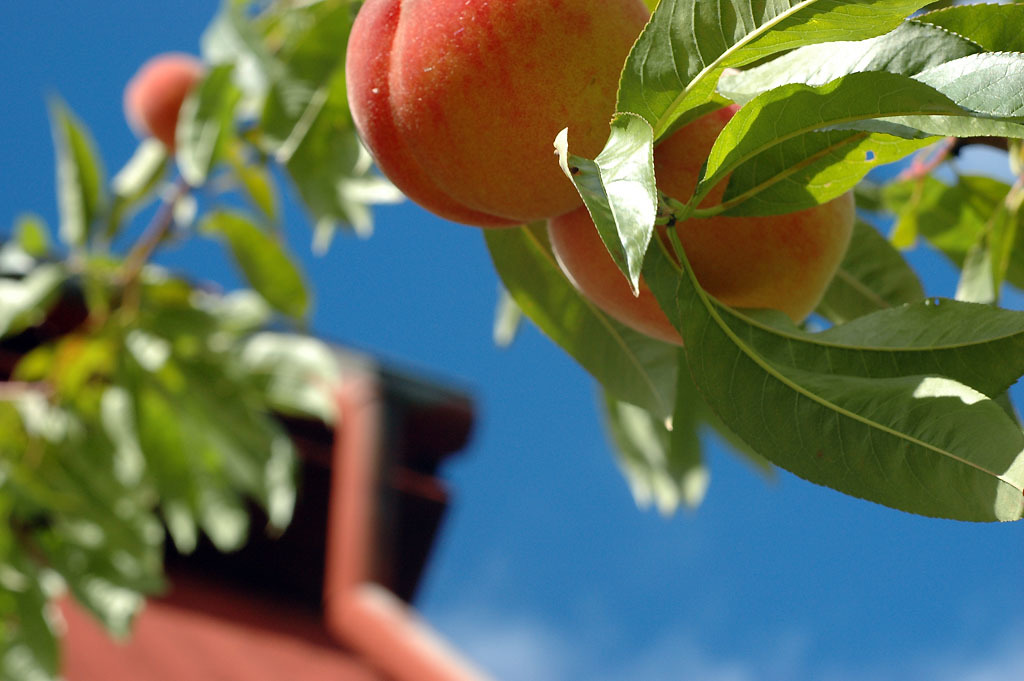Apple: (330, 0, 615, 202)
